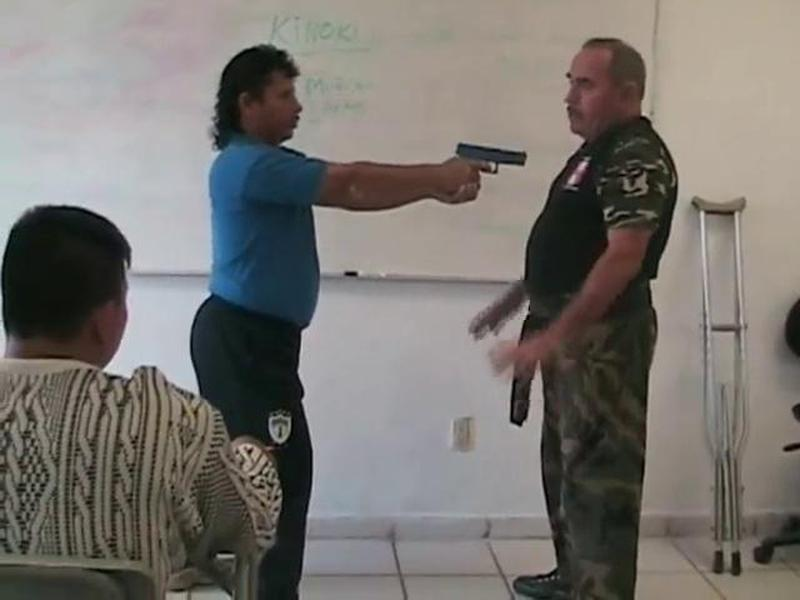Pistola: (449, 131, 542, 209)
